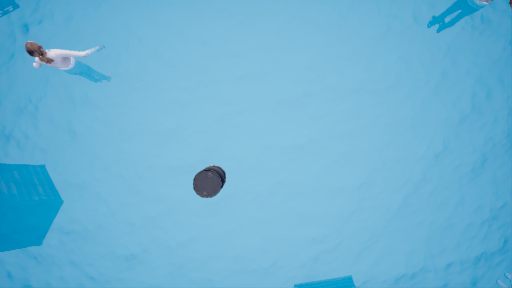person: (27, 39, 124, 85)
